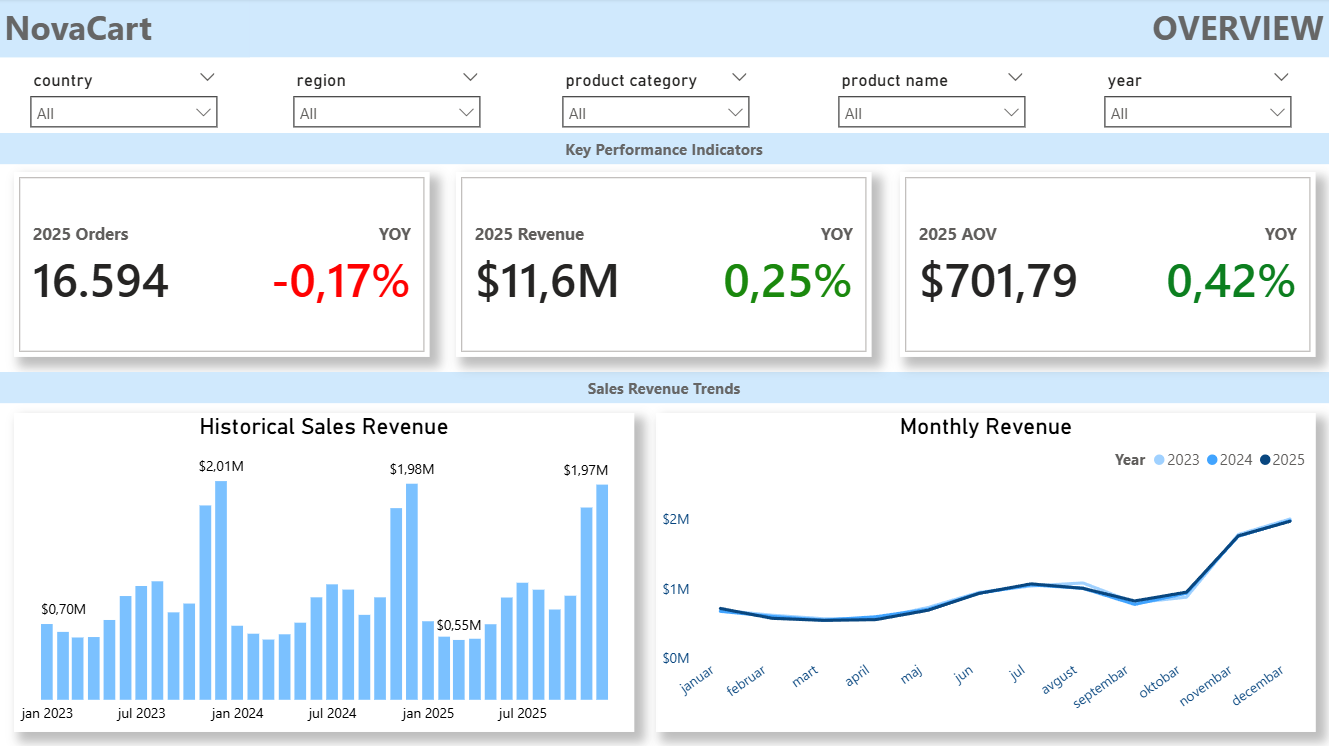

Layout of this report page (visuals, bound fields, positions):
{"tool":"powerbi","page":{"name":"Overview","canvas":[1280,720],"ordinal":0},"visuals":[{"type":"lineChart","title":"Monthly Revenue","fields":{"Y":["_Measures.Revenue"],"Category":["dim_date.Month"],"Series":["dim_date.Year"]},"box":[632.3,399.4,635.2,307],"z":0},{"type":"cardVisual","fields":{"Data":["_Measures.2025 Orders","_Measures.2025 Orders YOY"]},"box":[14.4,167.5,400.4,178],"z":1000},{"type":"textbox","box":[0,359.9,1280,29.8],"z":2000},{"type":"textbox","box":[0,129.9,1280,29.8],"z":3000},{"type":"cardVisual","fields":{"Data":["_Measures.2025 Revenue","_Measures.2025 Revenue YOY"]},"box":[439.8,167.5,400.4,178],"z":4000},{"type":"cardVisual","fields":{"Data":["_Measures.2025 AOV","_Measures.2025 AOV YOY"]},"box":[867.1,167.5,400.4,178],"z":5000},{"type":"slicer","fields":{"Values":["dim_customers.country"]},"box":[20.2,63.5,200.2,66.4],"z":6000},{"type":"slicer","fields":{"Values":["dim_customers.region"]},"box":[273.3,63.5,200.2,66.4],"z":7000},{"type":"slicer","fields":{"Values":["dim_products.product_category"]},"box":[532.2,63.5,200.2,66.4],"z":8000},{"type":"slicer","fields":{"Values":["dim_products.product_name"]},"box":[797.8,63.5,200.2,66.4],"z":9000},{"type":"clusteredColumnChart","title":"Historical Sales Revenue ","fields":{"Category":["dim_date.YearMonthDate"],"Y":["_Measures.Revenue"]},"box":[14.4,399.4,596.7,307],"z":10000},{"type":"slicer","fields":{"Values":["dim_date.Year"]},"box":[1053.8,63.5,200.2,66.4],"z":11000},{"type":"textbox","box":[0,0,1280,56.8],"z":12000},{"type":"textbox","box":[0,0,240.6,56.8],"z":13000}]}

Visuals, with their boxes in screenshot pixels (x1, y1, x2, y2), scaled from the page's 1280x720 canvas onto the 1329x746 screenshot:
"Monthly Revenue" lineChart: region(657, 414, 1316, 732)
cardVisual - _Measures.2025 Orders x _Measures.2025 Orders YOY: region(15, 174, 431, 358)
textbox: region(0, 373, 1328, 404)
textbox: region(0, 135, 1328, 165)
cardVisual - _Measures.2025 Revenue x _Measures.2025 Revenue YOY: region(457, 174, 872, 358)
cardVisual - _Measures.2025 AOV x _Measures.2025 AOV YOY: region(900, 174, 1316, 358)
slicer - dim_customers.country: region(21, 66, 229, 135)
slicer - dim_customers.region: region(284, 66, 492, 135)
slicer - dim_products.product_category: region(553, 66, 760, 135)
slicer - dim_products.product_name: region(828, 66, 1036, 135)
"Historical Sales Revenue " clusteredColumnChart: region(15, 414, 634, 732)
slicer - dim_date.Year: region(1094, 66, 1302, 135)
textbox: region(0, 0, 1328, 59)
textbox: region(0, 0, 250, 59)
